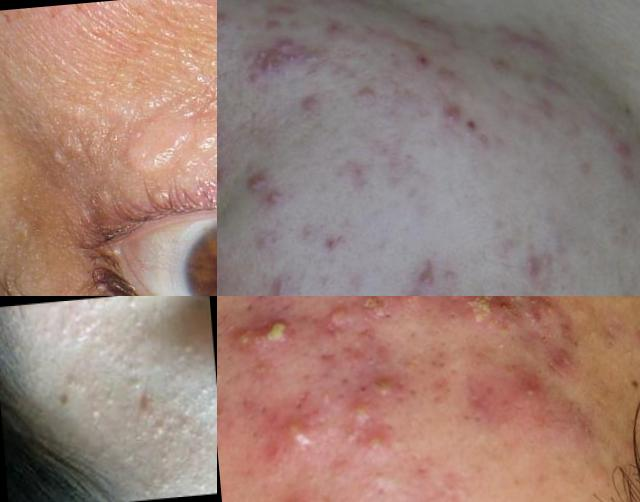blackhead: (316, 267, 341, 297)
papular: (503, 361, 565, 420), (517, 248, 574, 289), (264, 473, 340, 502), (252, 13, 297, 45), (429, 60, 471, 93), (129, 389, 163, 426), (316, 12, 351, 47), (434, 101, 469, 135), (355, 77, 385, 115), (266, 266, 300, 297), (261, 184, 295, 215), (323, 228, 354, 262), (293, 91, 328, 121), (611, 136, 640, 167), (218, 161, 237, 193), (218, 6, 236, 37), (394, 286, 440, 297)
purulent: (410, 259, 444, 292), (288, 416, 314, 446), (366, 429, 395, 454), (375, 367, 402, 393), (354, 389, 373, 423), (218, 129, 237, 162)
sebo-crystan-conglo: (242, 32, 325, 94), (221, 306, 297, 356), (443, 297, 518, 340), (344, 297, 424, 318), (243, 161, 276, 194)
syringoma: (117, 102, 218, 193)
whitehead: (51, 301, 118, 348), (134, 465, 185, 501), (123, 297, 169, 333), (169, 336, 205, 377), (62, 360, 86, 393), (84, 403, 112, 429)
